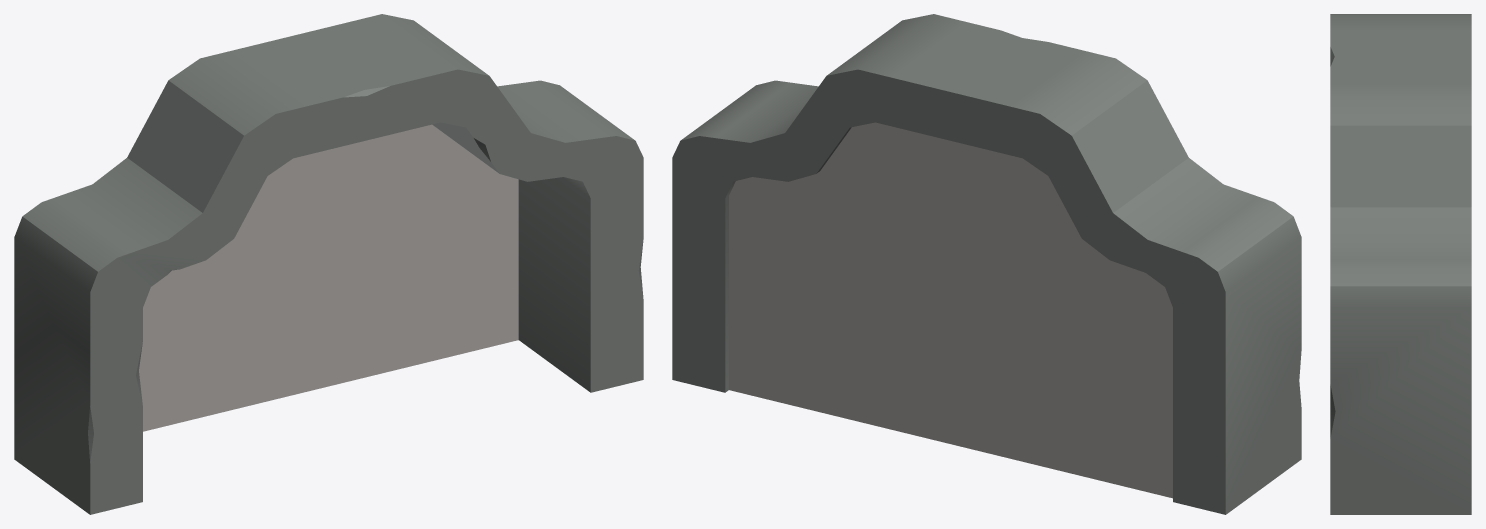
The model's file is SM_Env_Door_12.fbx.
3 renders of one model, left to right at view 1: azimuth 30°, elevation 25°; view 2: azimuth 150°, elevation 25°; view 3: azimuth 270°, elevation 25°, orthographic. The views are drawn at different scales.
Visible parts, largest first — view 1: SM_Env_Door_12; view 2: SM_Env_Door_12; view 3: SM_Env_Door_12.
Part boxes in pixels (left/top/right/bottom): SM_Env_Door_12: left=14, top=14, right=643, bottom=514; SM_Env_Door_12: left=672, top=14, right=1301, bottom=514; SM_Env_Door_12: left=1330, top=14, right=1471, bottom=514.
Bounding box in the file's own units: 258 × 159 × 61.29.
Materials: 1 (1 with a texture image).
